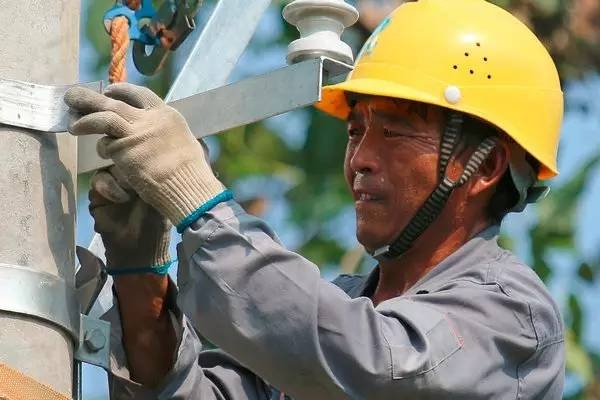yellow: (345, 1, 564, 250)
